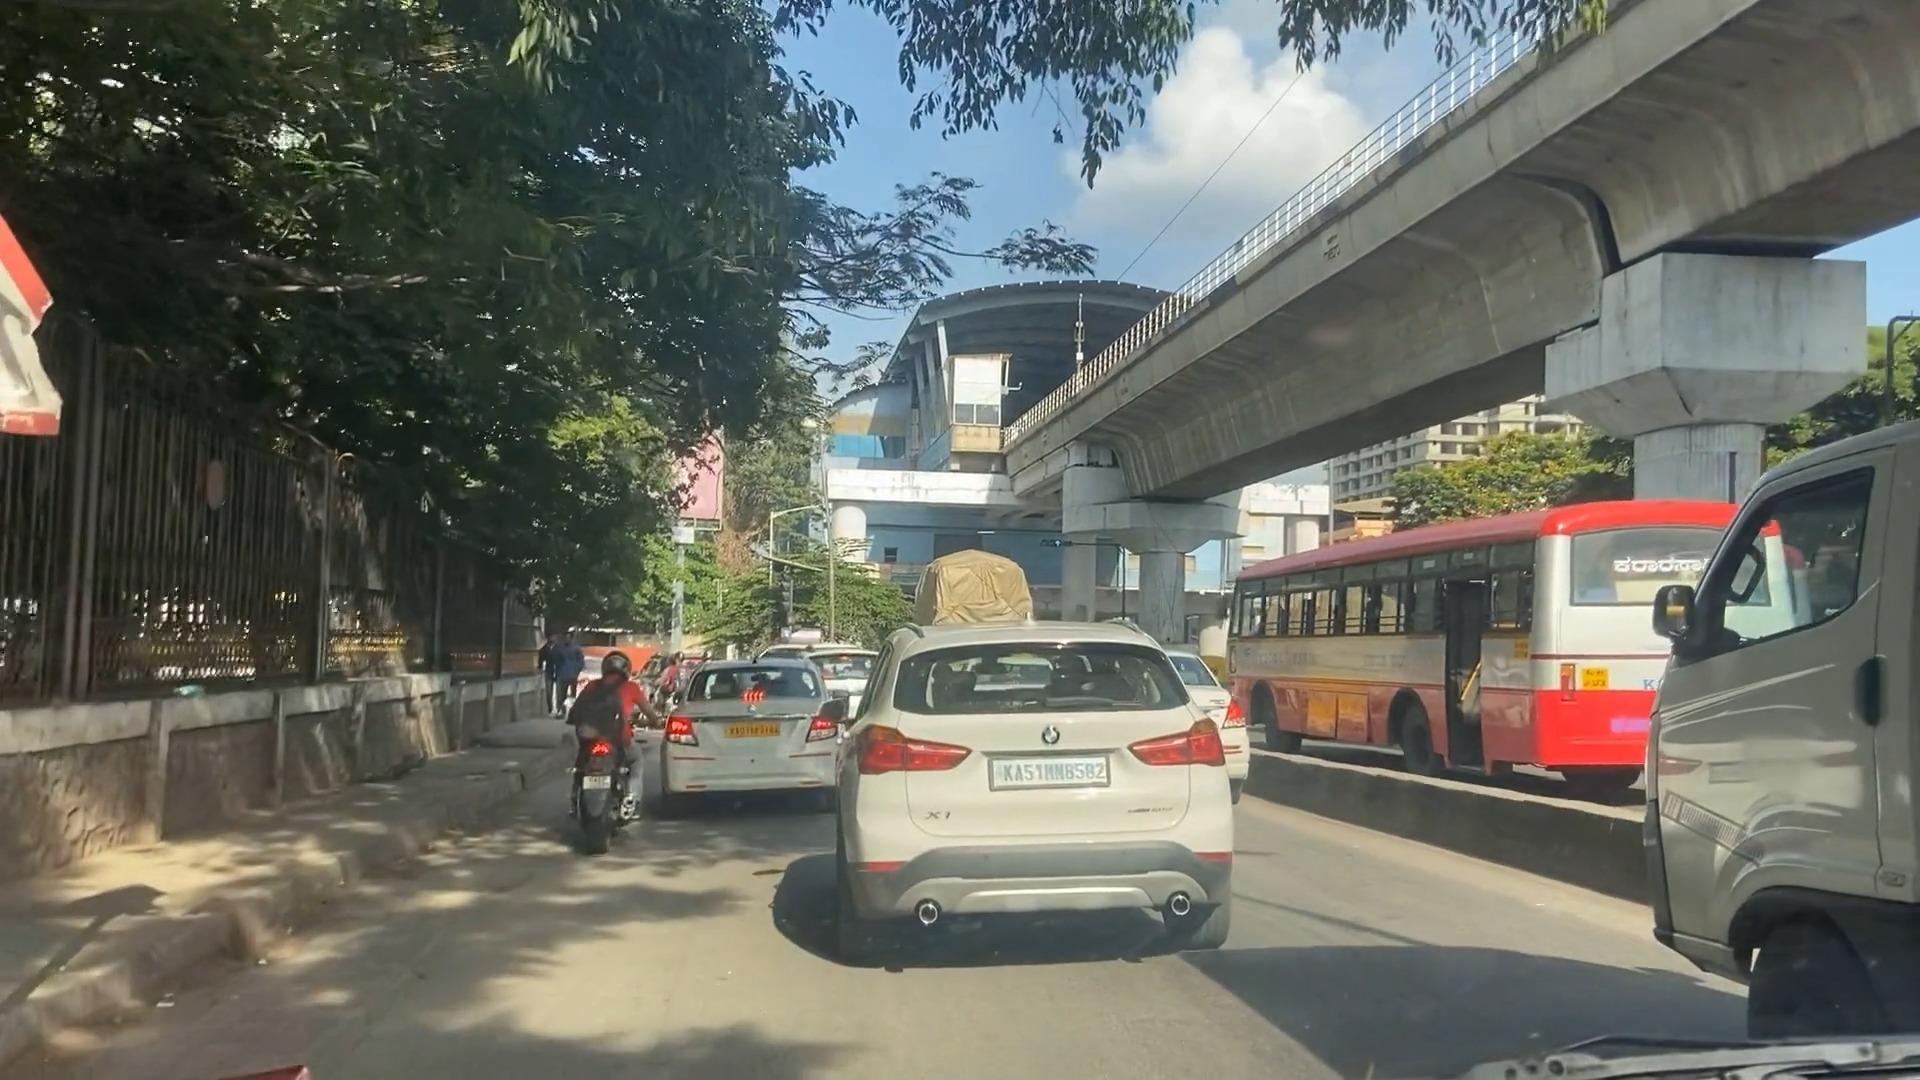HMV: (1200, 451, 1840, 790)
